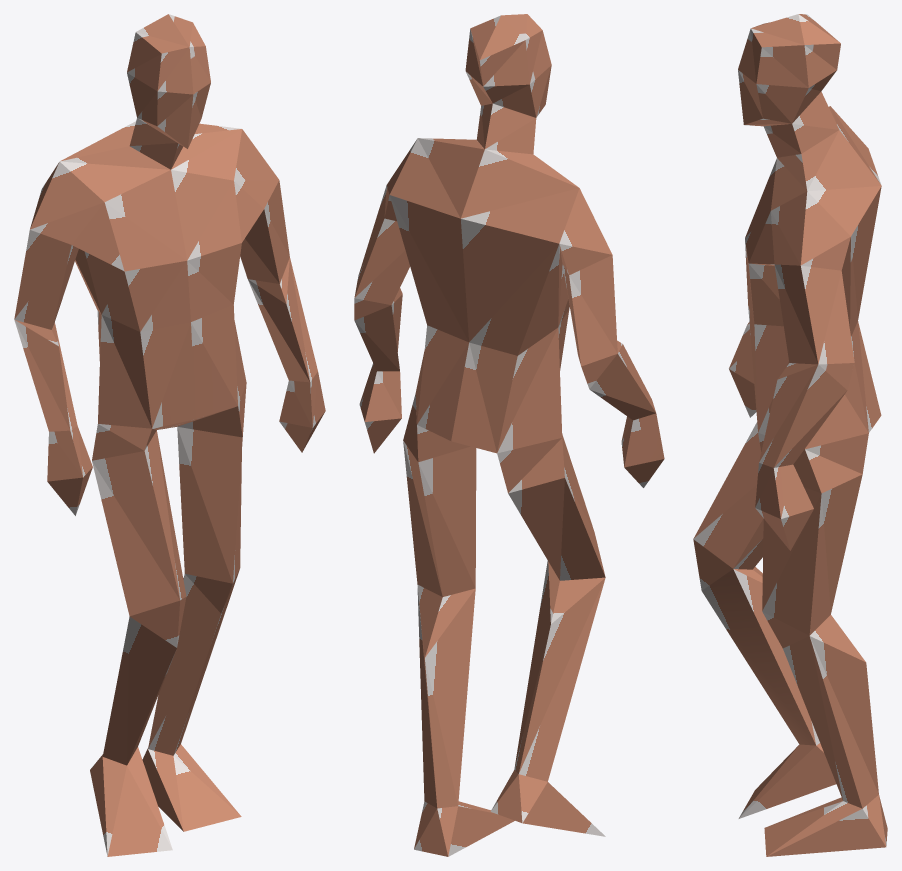
The picture shows the model from 3 angles, left to right: view 1: azimuth 30°, elevation 25°; view 2: azimuth 150°, elevation 25°; view 3: azimuth 270°, elevation 25°; orthographic projection.
Parts seen in each view (by area): view 1: Default; view 2: Default; view 3: Default.
Boxes of the visible parts, x1,y1,x2,y2 form: Default: (14, 14, 325, 856); Default: (354, 14, 664, 856); Default: (693, 14, 887, 856).
Size of the model in its own units: 0.824 by 2.2 by 0.473.
